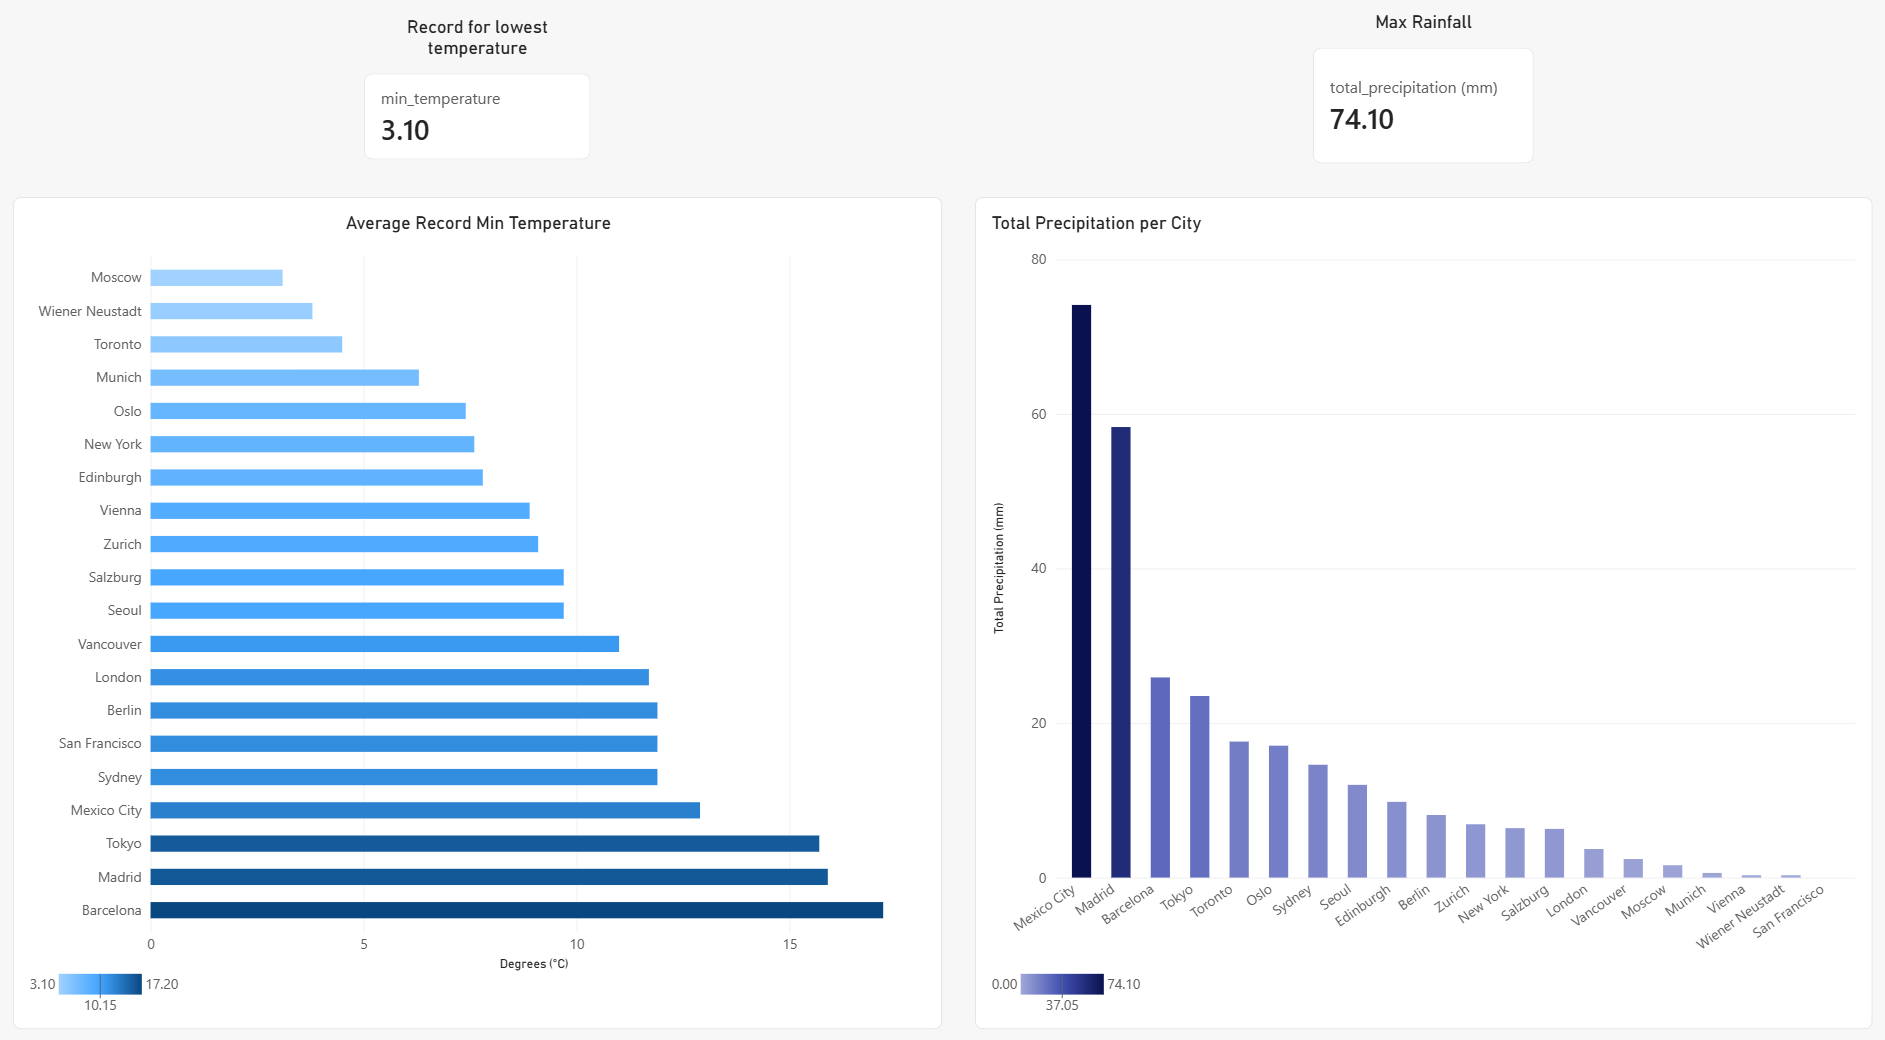

The page's visual inventory and layout, read from the dashboard file:
{"tool":"powerbi","page":{"name":"Low Temp / Precipitation","canvas":[1920,1080],"ordinal":2},"visuals":[{"type":"clusteredBarChart","title":"Average Record Min Temperature","fields":{"Category":["gold_weather_summary.city"],"Y":["Avg(gold_weather_summary.record_min_temp)"]},"box":[21.2,208.2,938.8,840.8],"z":0},{"type":"clusteredColumnChart","title":"Total Precipitation per City","fields":{"Category":["gold_weather_summary.city"],"Y":["Sum(gold_weather_summary.total_precipitation_mm)"]},"box":[993.3,208.2,907.5,840.8],"z":1},{"type":"cardVisual","title":"Record for lowest temperature","fields":{"Data":["Min(gold_weather_summary.record_min_temp)"]},"box":[375.9,25.3,229.4,145.5],"z":2},{"type":"cardVisual","title":"Max Rainfall","fields":{"Data":["Max(gold_weather_summary.total_precipitation_mm)"]},"box":[1334.9,20.2,223.3,154.6],"z":3}]}

Visuals, with their boxes in screenshot pixels (x1, y1, x2, y2), scaled from the page's 1920x1080 canvas onto the 1885x1040 screenshot:
"Average Record Min Temperature" clusteredBarChart: {"left": 21, "top": 200, "right": 942, "bottom": 1010}
"Total Precipitation per City" clusteredColumnChart: {"left": 975, "top": 200, "right": 1866, "bottom": 1010}
"Record for lowest temperature" cardVisual: {"left": 369, "top": 24, "right": 594, "bottom": 164}
"Max Rainfall" cardVisual: {"left": 1311, "top": 19, "right": 1530, "bottom": 168}
